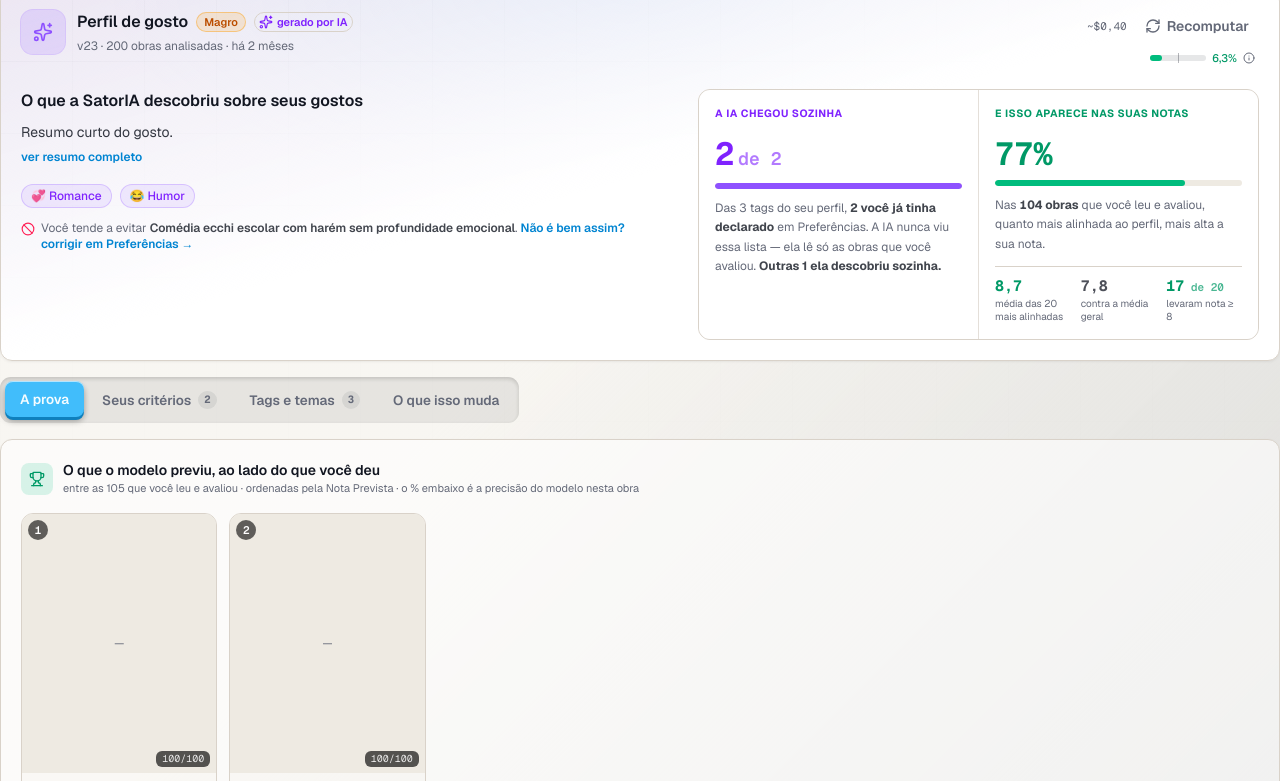
Scenario: selo 18+ nas duas trilhas › marca também na fila das não lidas
Click the tab "O que isso muda" at x=446, y=400, box [378,382,514,418]
(page scrolled)
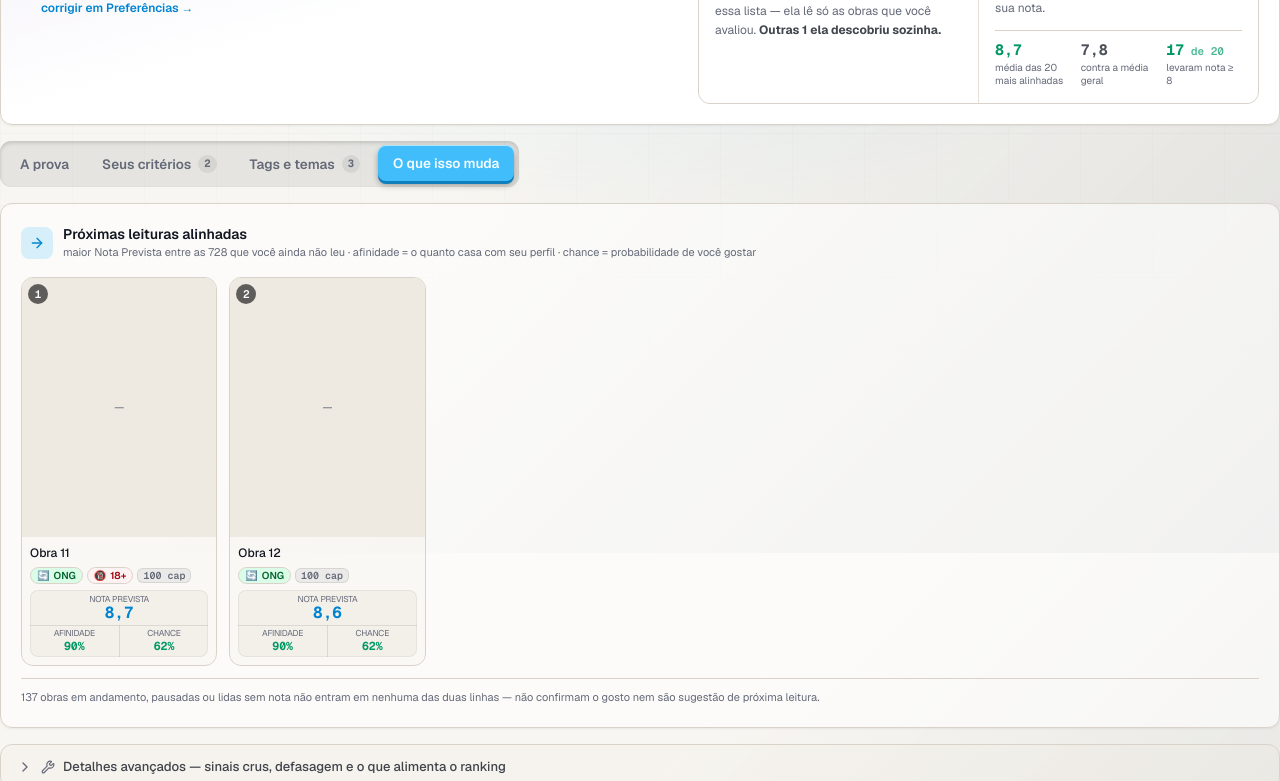
expect the element titled "Conteúdo adulto (18+)" is shown: met, box [87,567,133,584]
